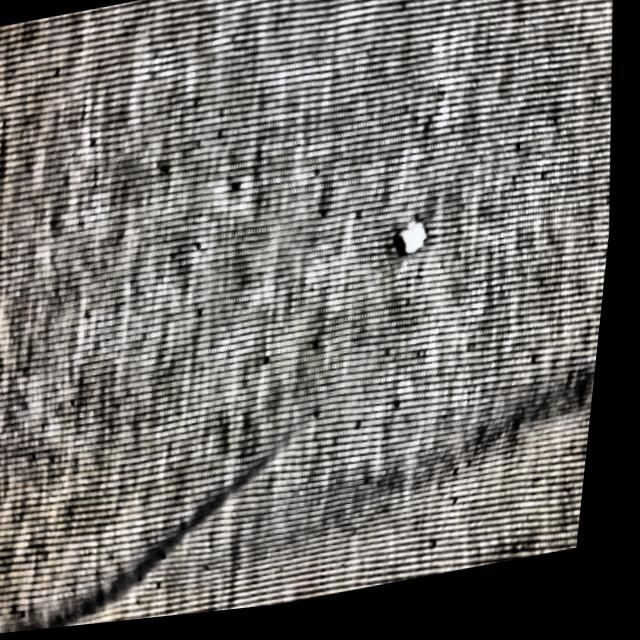Hole: (235, 143, 299, 214)
